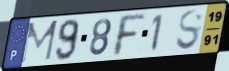1: (150, 13, 165, 53)
8: (88, 17, 113, 57)
9: (53, 17, 81, 63)
F: (113, 13, 148, 59)
M: (19, 19, 60, 66)
S: (174, 8, 205, 52)
